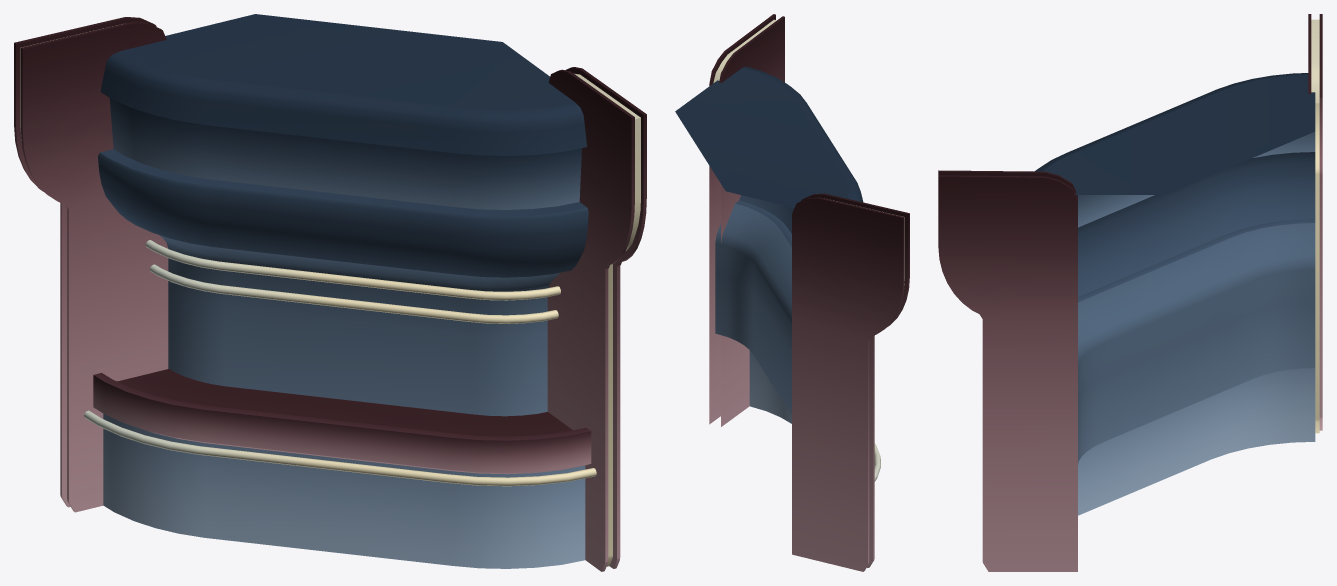
Rendered from ENV_WalkwayWall_Obtuse.FBX.
3 views of the same model, side by side, from view 1: azimuth 30°, elevation 25°; view 2: azimuth 150°, elevation 25°; view 3: azimuth 270°, elevation 25° (orthographic). The views are drawn at different scales.
Visible parts, largest first — view 1: ENV_WalkwayWall_Obtuse; view 2: ENV_WalkwayWall_Obtuse; view 3: ENV_WalkwayWall_Obtuse.
Boxes of the visible parts, left/top/right/bottom form: ENV_WalkwayWall_Obtuse: left=14, top=14, right=646, bottom=571; ENV_WalkwayWall_Obtuse: left=675, top=14, right=909, bottom=571; ENV_WalkwayWall_Obtuse: left=938, top=14, right=1322, bottom=571.
Bounding box in the file's own units: 1279 × 1451 × 1278.
Materials: 2 (2 with a texture image).
